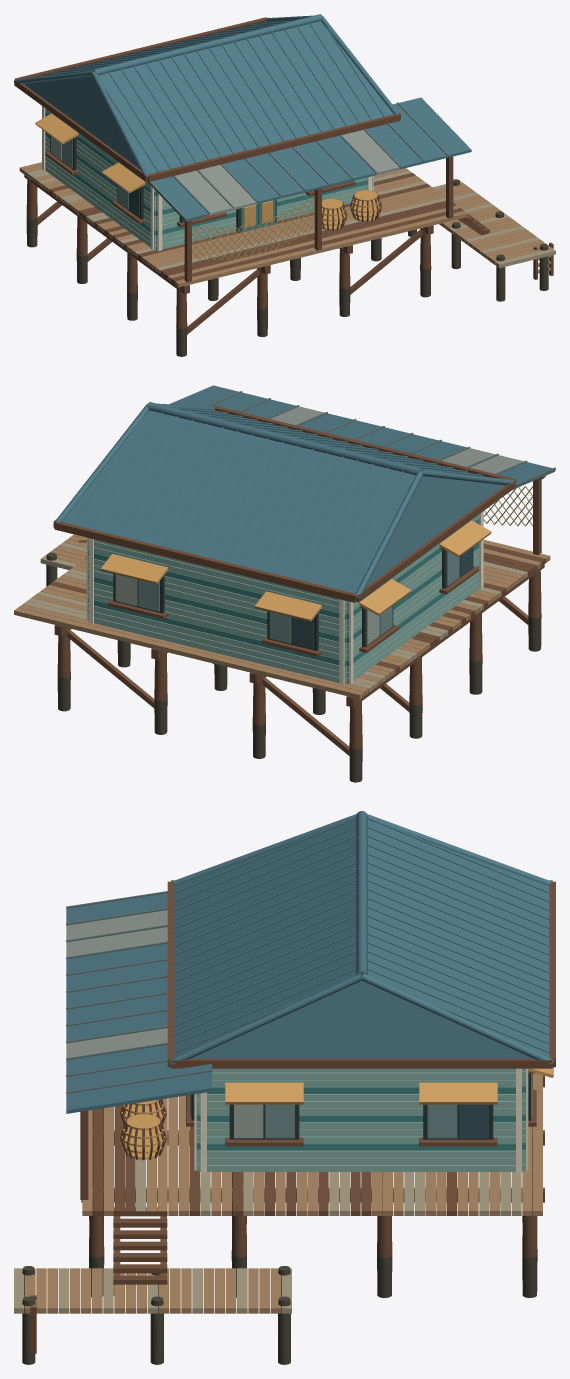
The picture shows the model from 3 angles, top to bottom: view 1: azimuth 30°, elevation 25°; view 2: azimuth 150°, elevation 25°; view 3: azimuth 270°, elevation 25°; orthographic projection. The views are drawn at different scales.
Parts seen in each view (by area): view 1: Roof covering, Walkway and landing stage, Porch tin, Saltwater piles and bearers, Painted lap siding, Eave fascia, Casements and sills, Mending rack and seine, Bamboo fish creels, Entrance joinery; view 2: Roof covering, Painted lap siding, Saltwater piles and bearers, Walkway and landing stage, Porch tin, Eave fascia, Casements and sills, Mending rack and seine; view 3: Roof covering, Walkway and landing stage, Painted lap siding, Porch tin, Saltwater piles and bearers, Casements and sills, Eave fascia, Bamboo fish creels.
Boxes of the visible parts, x1,y1,x2,y2 form: Roof covering: (14, 14, 400, 178); Walkway and landing stage: (19, 162, 555, 287); Porch tin: (147, 97, 471, 221); Saltwater piles and bearers: (24, 156, 548, 356); Painted lap siding: (35, 106, 373, 250); Eave fascia: (14, 17, 400, 181); Casements and sills: (45, 135, 355, 227); Mending rack and seine: (192, 196, 314, 260); Bamboo fish creels: (322, 190, 381, 230); Entrance joinery: (236, 199, 276, 232); Roof covering: (53, 402, 516, 599); Painted lap siding: (78, 511, 491, 684); Saltwater piles and bearers: (46, 476, 545, 782); Walkway and landing stage: (14, 534, 550, 699); Porch tin: (169, 385, 555, 489); Eave fascia: (53, 405, 516, 602); Casements and sills: (108, 547, 478, 656); Mending rack and seine: (483, 486, 532, 526); Roof covering: (169, 811, 553, 1065); Walkway and landing stage: (14, 1073, 542, 1353); Painted lap siding: (194, 1067, 553, 1172); Porch tin: (66, 891, 211, 1113); Saltwater piles and bearers: (22, 1073, 544, 1364); Casements and sills: (186, 1071, 536, 1146); Eave fascia: (167, 880, 555, 1068); Bamboo fish creels: (120, 1099, 166, 1160).
Size of the model in its own units: 12.67 by 7.3 by 11.42.
